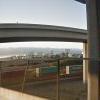Bridge: (4, 12, 79, 52)
